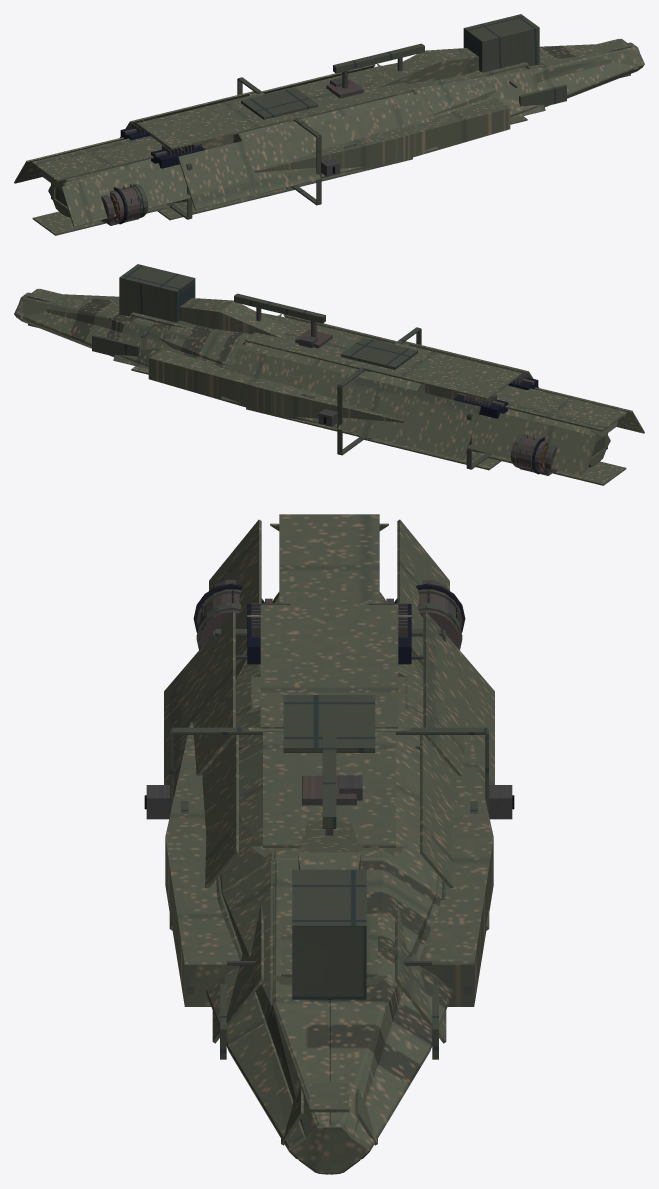
Rendered from repair_tender_production_v1_lod0.glb.
The picture shows the model from 3 angles, top to bottom: view 1: azimuth 30°, elevation 25°; view 2: azimuth 150°, elevation 25°; view 3: azimuth 270°, elevation 25°; orthographic projection. The views are drawn at different scales.
Parts seen in each view (by area): view 1: LOD0_Hull, LOD0_Armor, LOD0_Mechanical, LOD0_Radiator; view 2: LOD0_Hull, LOD0_Armor, LOD0_Mechanical, LOD0_Radiator; view 3: LOD0_Hull, LOD0_Armor, LOD0_Mechanical, LOD0_Radiator.
Boxes of the visible parts, bbox=[...] form: LOD0_Hull: bbox=[14, 38, 644, 235]; LOD0_Armor: bbox=[51, 14, 566, 221]; LOD0_Mechanical: bbox=[101, 57, 517, 225]; LOD0_Radiator: bbox=[64, 127, 205, 224]; LOD0_Hull: bbox=[14, 288, 644, 485]; LOD0_Armor: bbox=[92, 264, 607, 471]; LOD0_Mechanical: bbox=[141, 307, 557, 475]; LOD0_Radiator: bbox=[453, 377, 594, 474]; LOD0_Hull: bbox=[164, 514, 494, 1174]; LOD0_Armor: bbox=[170, 589, 488, 1059]; LOD0_Mechanical: bbox=[146, 580, 512, 965]; LOD0_Radiator: bbox=[193, 583, 465, 664].
Size of what is drawn, in the model's own units: 13.96 by 2.23 by 3.78.
9 materials, 9 textured.
